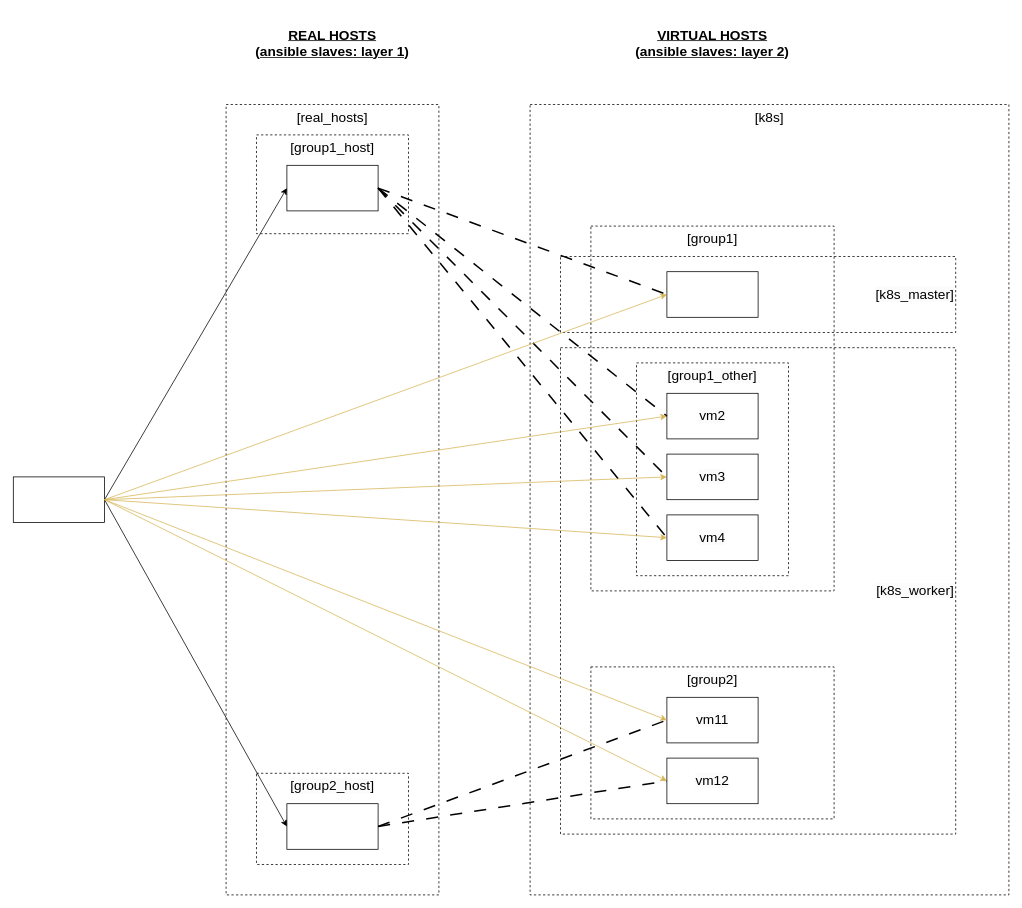
This 1022x908 diagram has some shape labels left out. The shapes that lost their labels are listed below. From the top down, each one's centre as x and y in pixels, then its label:
At pixel 332 188: "host1".
At pixel 712 294: "vm1".
At pixel 58 499: "Ansible Master".
At pixel 332 826: "host2".
